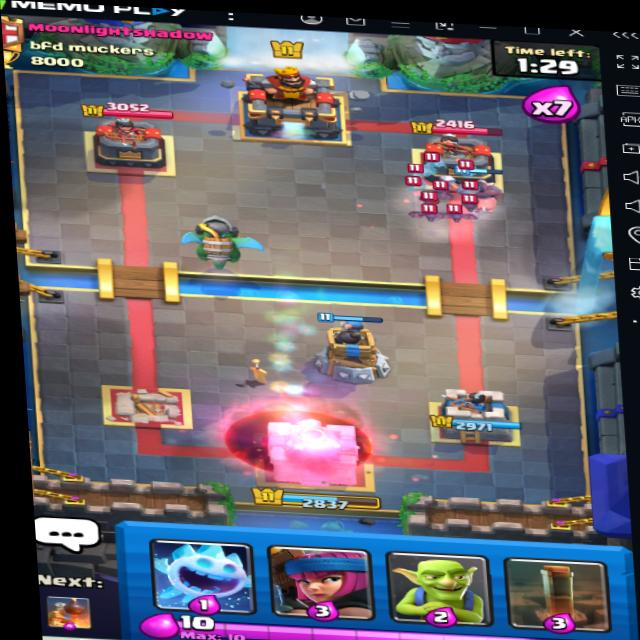Bat: (415, 202, 445, 229), (440, 206, 478, 227), (461, 193, 494, 215)
Void: (217, 397, 380, 480)
